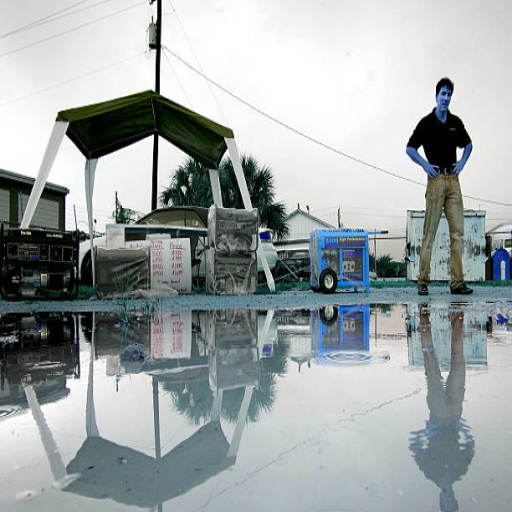portable_generator: (309, 227, 370, 293)
